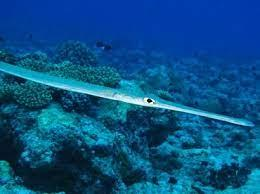Fistularia commersonii: (1, 48, 255, 148)
